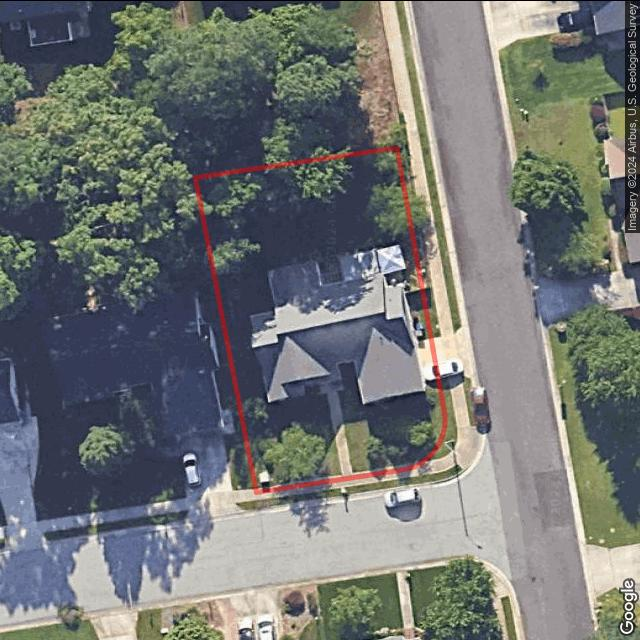Driveway: (417, 337, 440, 382)
Extra-Driveway: (431, 323, 473, 380)
Extra-Lawn: (395, 145, 443, 337), (260, 463, 464, 507), (420, 140, 462, 330), (426, 376, 459, 460), (463, 373, 482, 425)
Extra-Sidewalk: (257, 375, 483, 500), (406, 143, 453, 335)
House: (248, 257, 425, 404)
Lawn: (196, 146, 447, 491)
Other: (317, 241, 407, 285)
Sidewalk: (254, 375, 421, 491)
